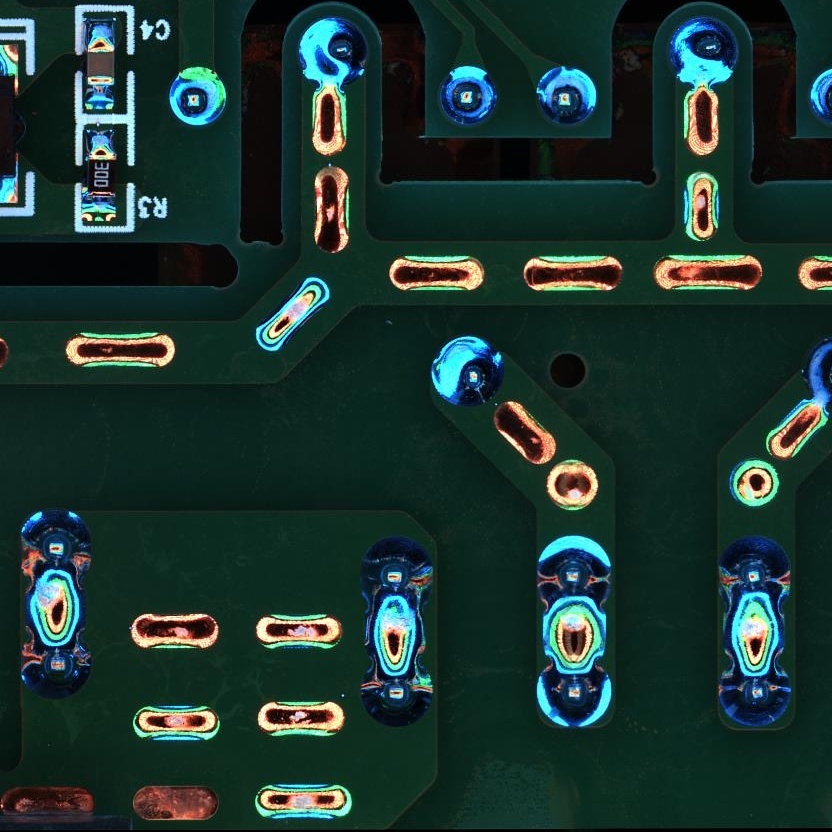spot: (534, 533, 614, 612), (716, 534, 793, 610), (667, 16, 742, 90), (358, 536, 435, 608), (16, 631, 95, 701), (296, 16, 370, 89), (16, 506, 92, 577), (431, 333, 503, 406), (535, 662, 612, 728), (357, 661, 435, 726), (716, 662, 792, 727), (535, 64, 599, 129), (437, 65, 500, 127), (167, 65, 228, 127)
